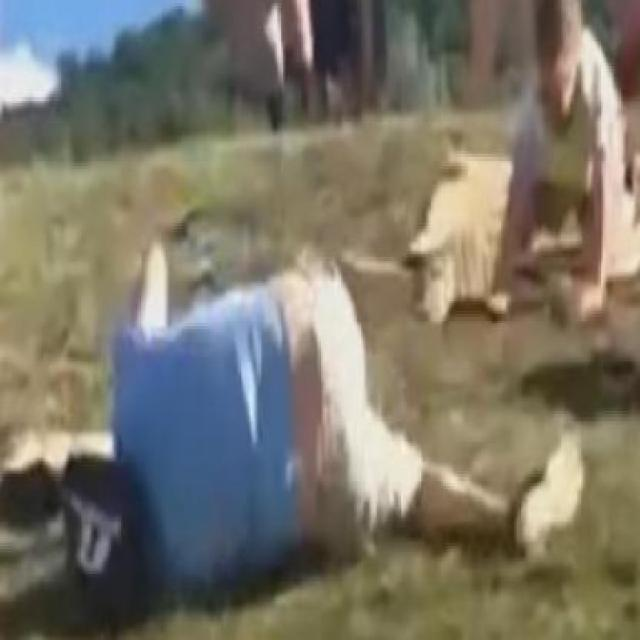fall: (80, 218, 583, 598)
